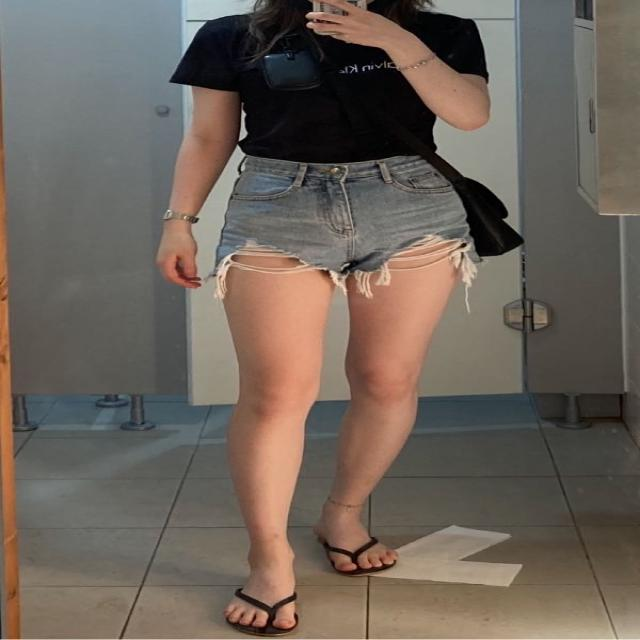shortpants: (210, 151, 469, 272)
shortsleeve: (168, 10, 486, 164)
